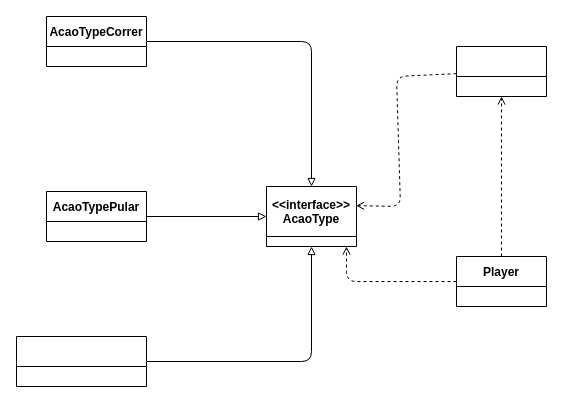
Some shapes in this 563 by 403 pixel diagram are drawn without their labels. Here are the shapes that lost their labels. From the top down, the centre of each, then its label:
the point at 501,71: Acao
the point at 81,361: AcaoTypeReproduzir
